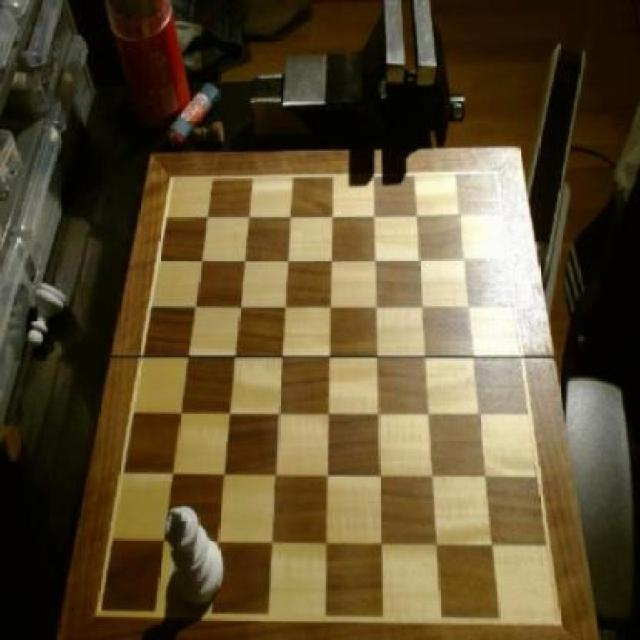white-bishop: (163, 498, 226, 608)
